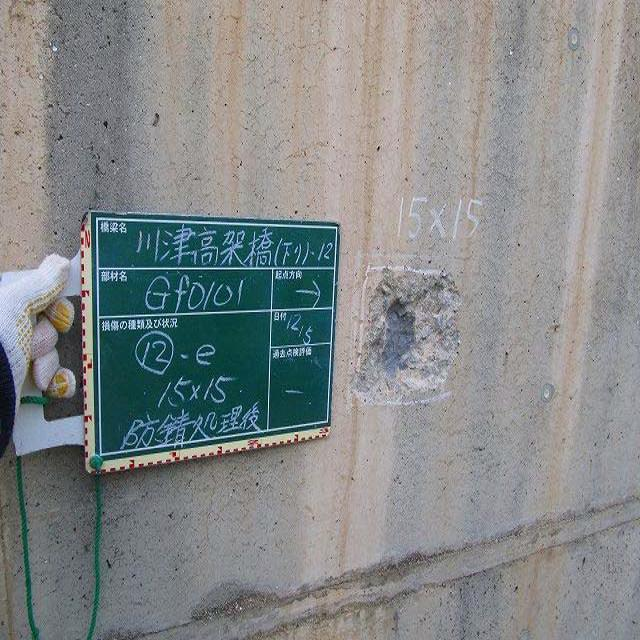spalling: (353, 256, 474, 414)
